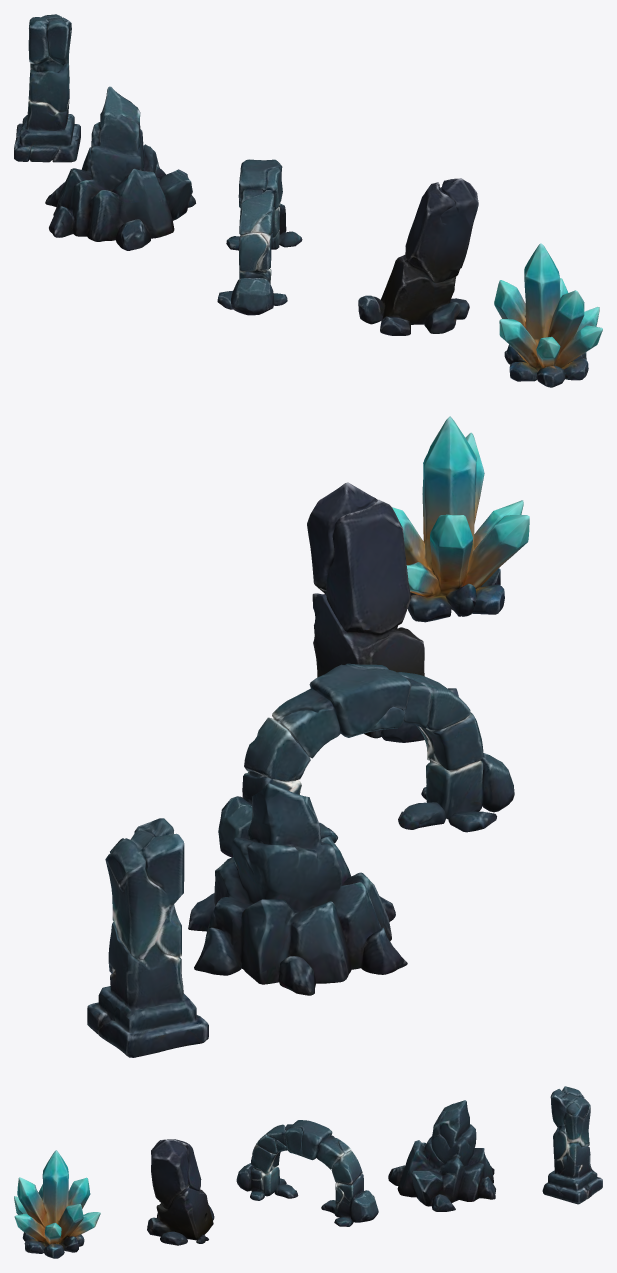
File: props_L3_dune.glb
3 renders of one model, top to bottom at view 1: azimuth 30°, elevation 25°; view 2: azimuth 150°, elevation 25°; view 3: azimuth 270°, elevation 25°, orthographic. The views are drawn at different scales.
Parts seen in each view (by area): view 1: tripo_node_96cdd02c-1890-4c52-a121-6b0b20aa72d1; view 2: tripo_node_96cdd02c-1890-4c52-a121-6b0b20aa72d1; view 3: tripo_node_96cdd02c-1890-4c52-a121-6b0b20aa72d1.
Part boxes in pixels (left/top/right/bottom): tripo_node_96cdd02c-1890-4c52-a121-6b0b20aa72d1: left=14, top=14, right=602, bottom=387; tripo_node_96cdd02c-1890-4c52-a121-6b0b20aa72d1: left=87, top=416, right=529, bottom=1057; tripo_node_96cdd02c-1890-4c52-a121-6b0b20aa72d1: left=14, top=1086, right=602, bottom=1258.
Size of the model in its own units: 0.4057 by 0.1874 by 0.9796.
1 material, 1 textured.
